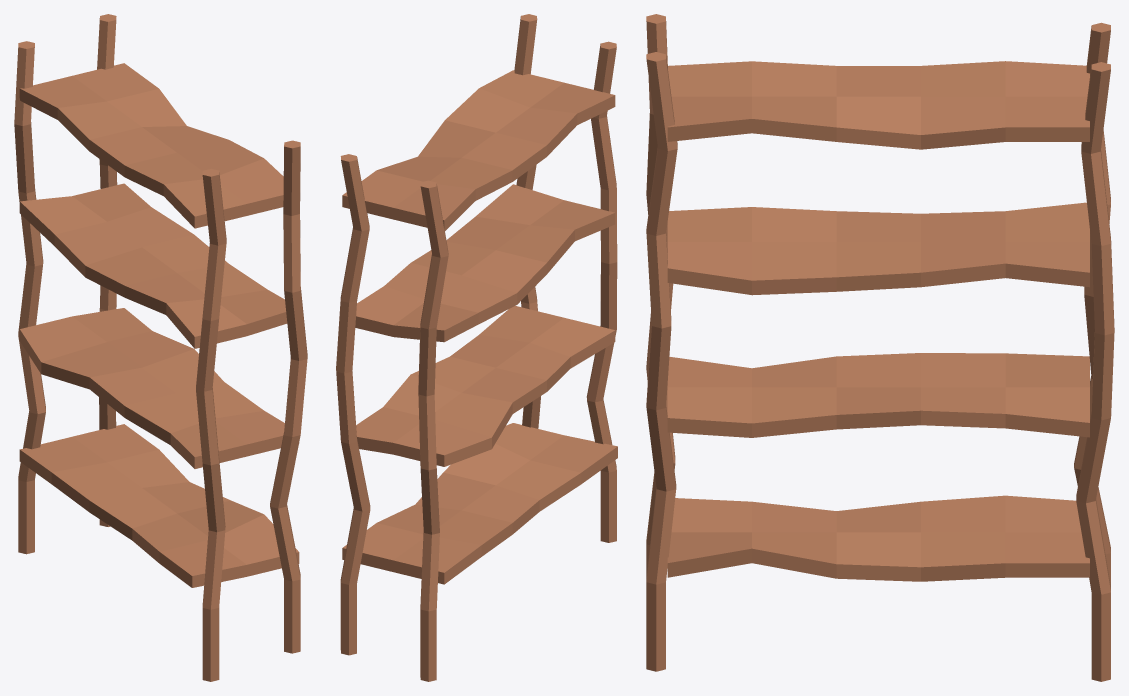
File: shelf_big.fbx
3 renders of one model, left to right at view 1: azimuth 30°, elevation 25°; view 2: azimuth 150°, elevation 25°; view 3: azimuth 270°, elevation 25°, orthographic. The views are drawn at different scales.
Visible parts, largest first — view 1: Shelf; view 2: Shelf; view 3: Shelf.
Part boxes in pixels (left/top/right/bottom): Shelf: left=14, top=14, right=307, bottom=681; Shelf: left=336, top=14, right=617, bottom=681; Shelf: left=646, top=14, right=1114, bottom=681.
Size of the model in its own units: 119 by 476 by 321.
